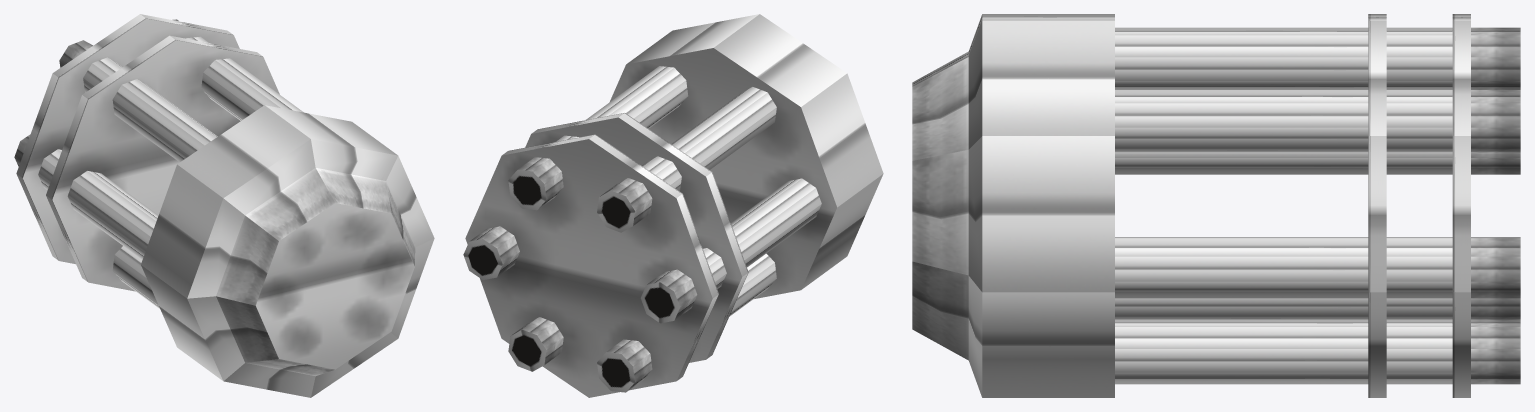
The model's file is gun.FBX.
The picture shows the model from 3 angles, left to right: view 1: azimuth 30°, elevation 25°; view 2: azimuth 150°, elevation 25°; view 3: azimuth 270°, elevation 25°; orthographic projection. The views are drawn at different scales.
Parts seen in each view (by area): view 1: Cylinder007; view 2: Cylinder007; view 3: Cylinder007.
Part boxes in pixels (x1,y1,x2,y2): Cylinder007: [14, 14, 434, 397]; Cylinder007: [463, 14, 883, 397]; Cylinder007: [912, 14, 1520, 397].
Size of the model in its own units: 73.5 by 73.5 by 109.
